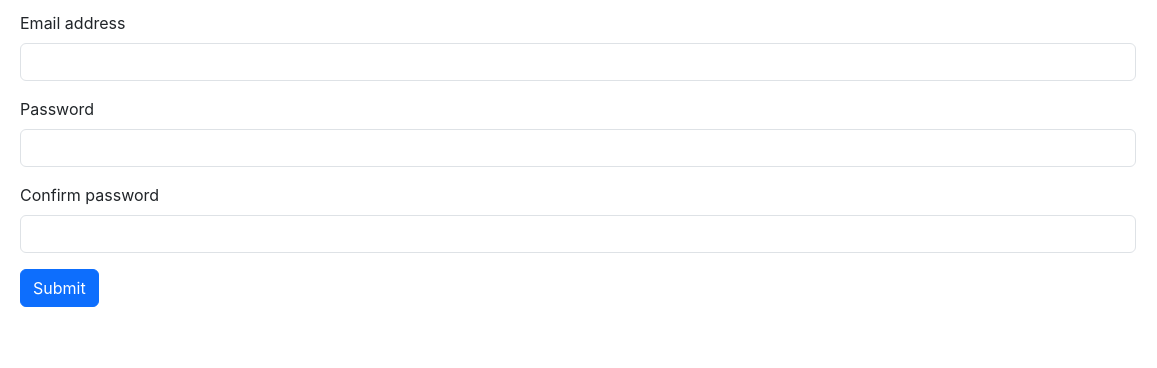
Scenario: Form validation › Should show confirm password error if password doesn't match
Expected: the text "the password doesn't match. Try again" is not shown
Type "selena@gmail.com" into the field labelled "Email address" at [578, 62], box [20,43,1136,81]
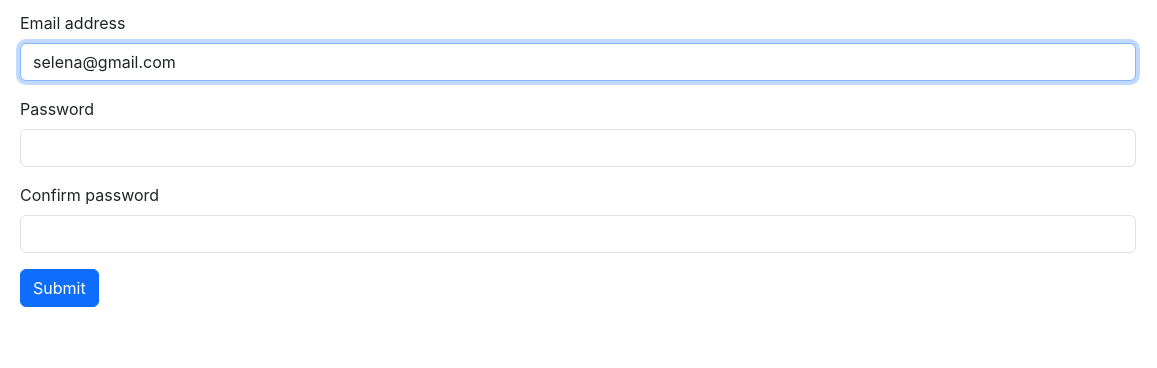
Type "12345" into the password field labelled "Password" at [578, 148], box [20,129,1136,167]
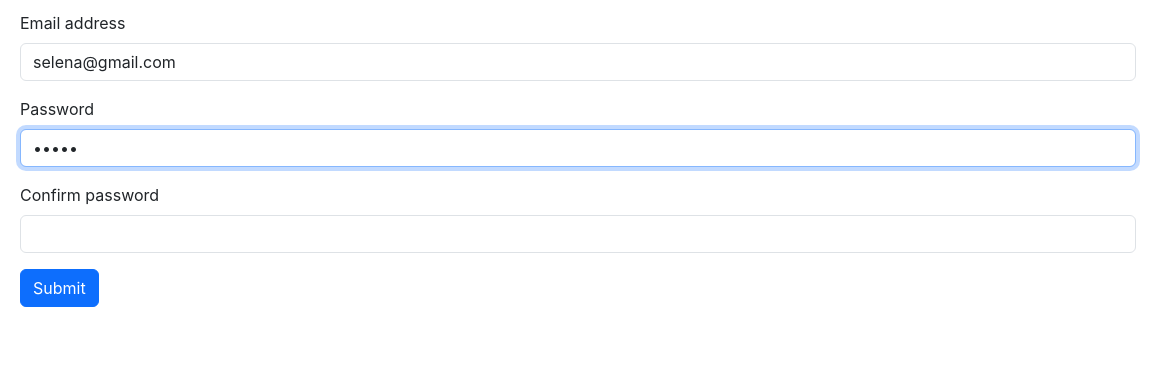
Type "123456" into the password field labelled "Confirm password" at [578, 234], box [20,215,1136,253]
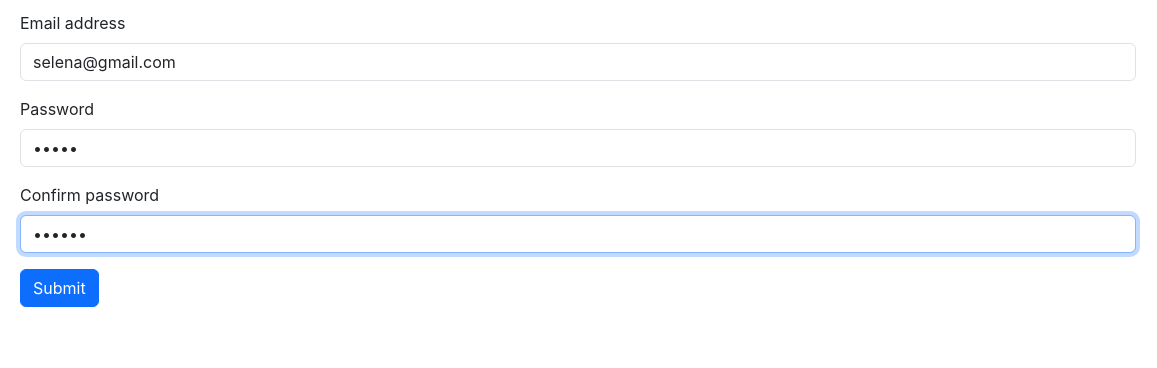
Click the button "Submit" at [59, 288], box [20,269,99,307]
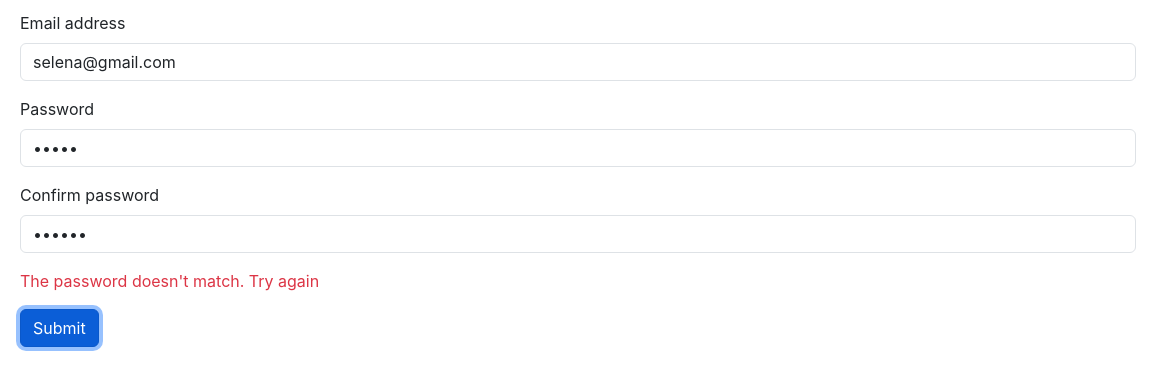
Result: the text "The password doesn't match. Try again" is shown at [20,271,319,291]
